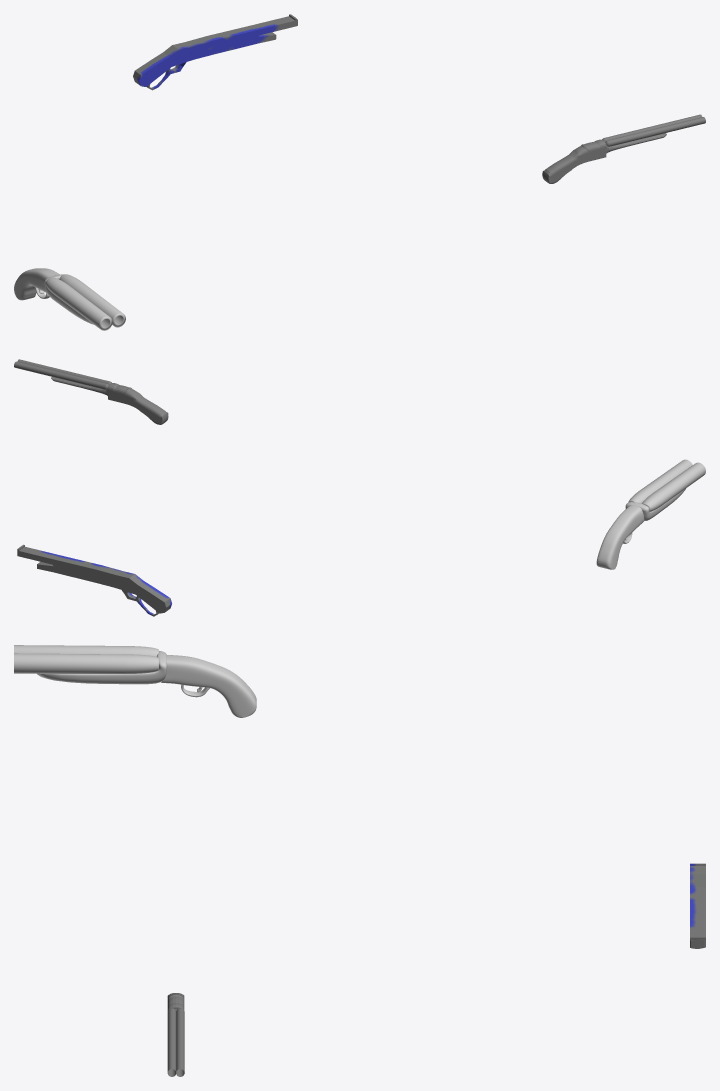
Rendered from Shotgun.fbx.
The picture shows the model from 3 angles, top to bottom: view 1: azimuth 30°, elevation 25°; view 2: azimuth 150°, elevation 25°; view 3: azimuth 270°, elevation 25°; orthographic projection. The views are drawn at different scales.
Visible parts, largest first — view 1: node_id10, node_id5, node_id8, node_id4, node_id7; view 2: node_id10, node_id5, node_id4, node_id8, node_id9; view 3: node_id5, node_id4, node_id6, node_id10, node_id7.
Boxes of the visible parts, x1,y1,x2,y2 form: node_id10: (133, 14, 297, 90); node_id5: (45, 274, 125, 330); node_id8: (542, 133, 666, 183); node_id4: (14, 268, 59, 300); node_id7: (605, 117, 705, 146); node_id10: (17, 544, 171, 616); node_id5: (628, 459, 705, 511); node_id4: (596, 505, 644, 569); node_id8: (51, 377, 168, 424); node_id9: (14, 361, 108, 389); node_id5: (14, 645, 158, 673); node_id4: (161, 654, 256, 717); node_id6: (37, 651, 167, 684); node_id10: (690, 863, 705, 948); node_id7: (167, 1008, 176, 1076).
Size of the model in its own units: 0.512 by 0.0356 by 0.3576.
7 materials, 1 textured.
